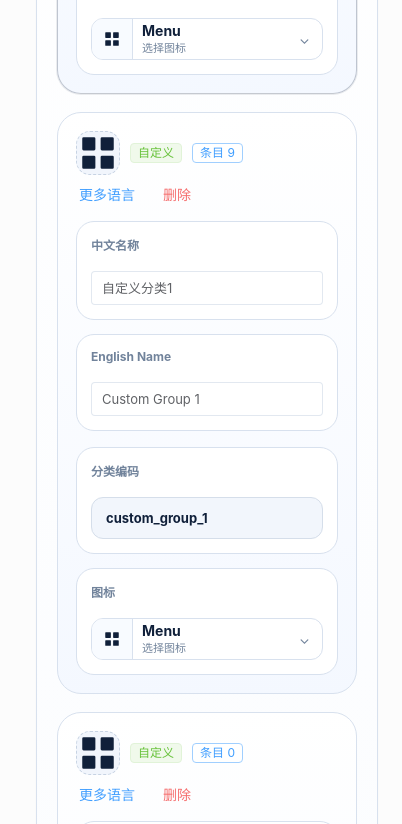
Test: SystemMenuManagement › focuses right-side resources on the selected left category by default
(page scrolled)
Click the element with test id "category-item-custom_group_1".
click(75, 403)  # box [57,112,357,694]
(page scrolled)
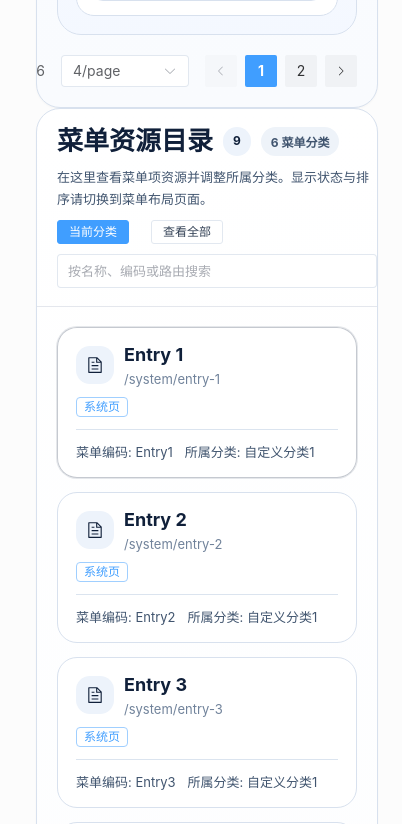
Result: the element with class "entry-card" shows "Entry 1" at [124,344,183,365]
